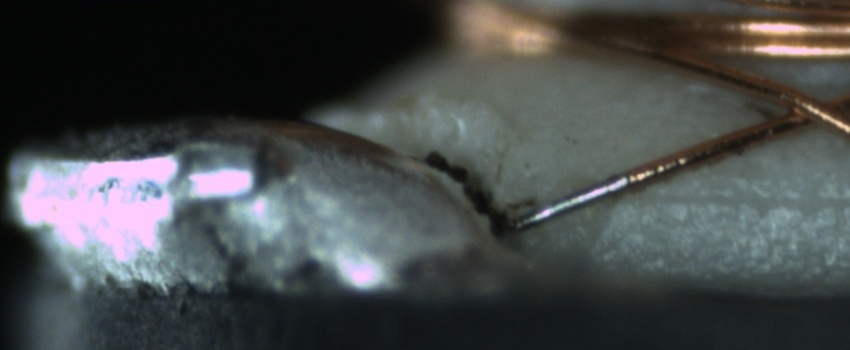CL: (756, 81, 848, 142)
DL: (621, 167, 850, 231)
TS: (503, 172, 629, 234)
